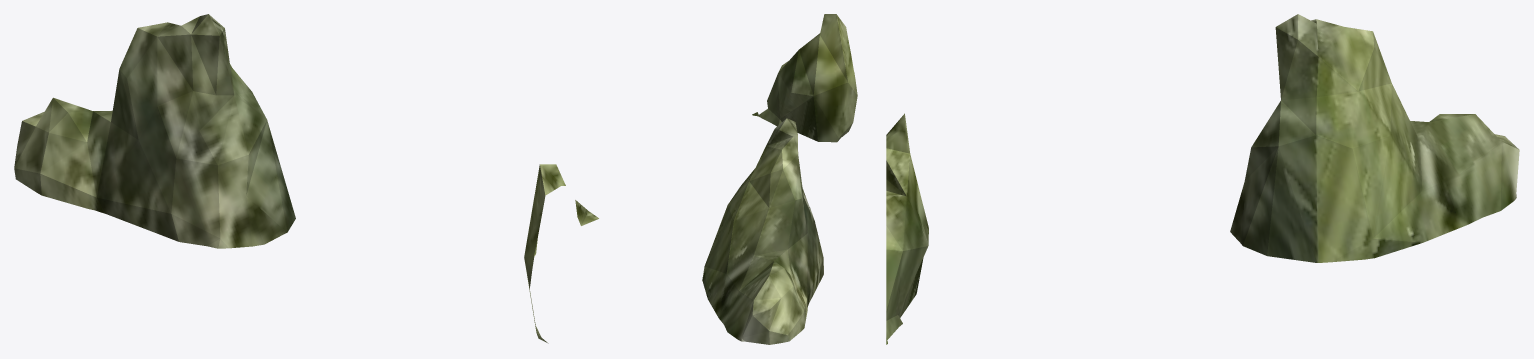
The picture shows the model from 3 angles, left to right: view 1: azimuth 30°, elevation 25°; view 2: azimuth 150°, elevation 25°; view 3: azimuth 270°, elevation 25°; orthographic projection. The views are drawn at different scales.
Bounding box in the file's own units: 1.64 × 0.9287 × 2.57.
1 material, 1 textured.
